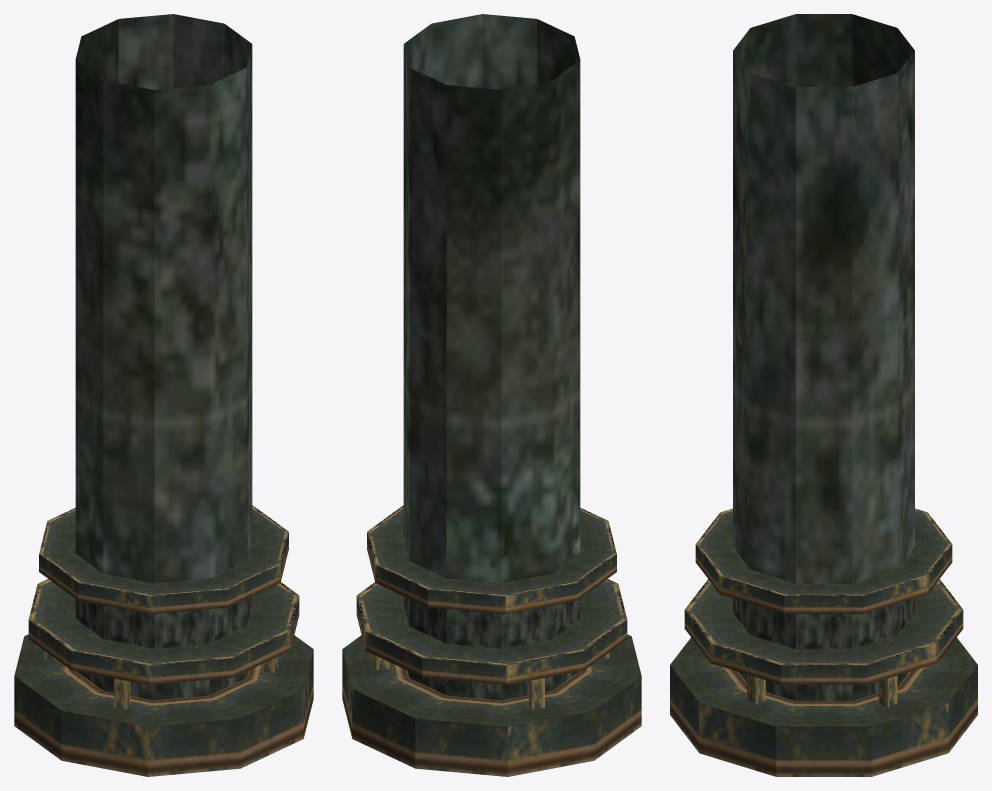
Rendered from Crusher2.glb.
3 renders of one model, left to right at view 1: azimuth 30°, elevation 25°; view 2: azimuth 150°, elevation 25°; view 3: azimuth 270°, elevation 25°, orthographic.
Visible parts, largest first — view 1: Cylinder; view 2: Cylinder; view 3: Cylinder.
Part boxes in pixels (bbox=[...]): Cylinder: bbox=[14, 14, 313, 776]; Cylinder: bbox=[342, 14, 641, 776]; Cylinder: bbox=[670, 14, 977, 776].
Bounding box in the file's own units: 3.22 × 8.2 × 3.38.
2 materials, 2 textured.
